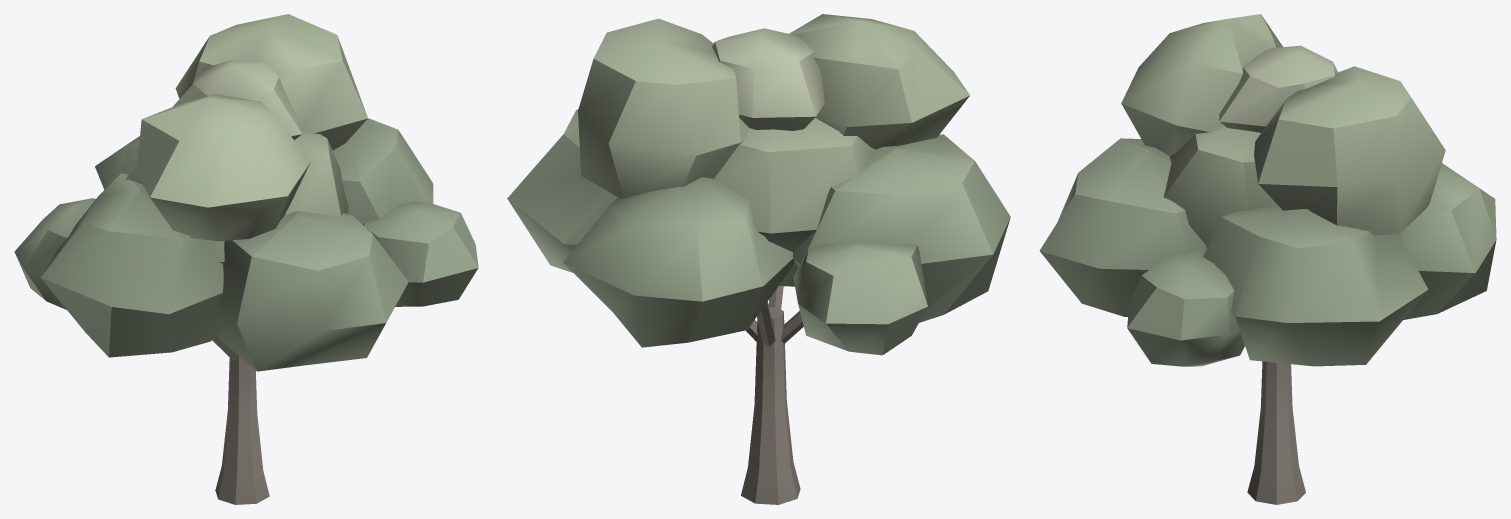
File: tree.glb
3 renders of one model, left to right at view 1: azimuth 30°, elevation 25°; view 2: azimuth 150°, elevation 25°; view 3: azimuth 270°, elevation 25°, orthographic. The views are drawn at different scales.
Visible parts, largest first — view 1: tree.001; view 2: tree.001; view 3: tree.001.
Boxes of the visible parts, x1,y1,x2,y2 form: tree.001: [14, 14, 478, 504]; tree.001: [507, 14, 1010, 504]; tree.001: [1039, 14, 1496, 504].
Size of the model in its own units: 8.16 by 8.34 by 7.78.
